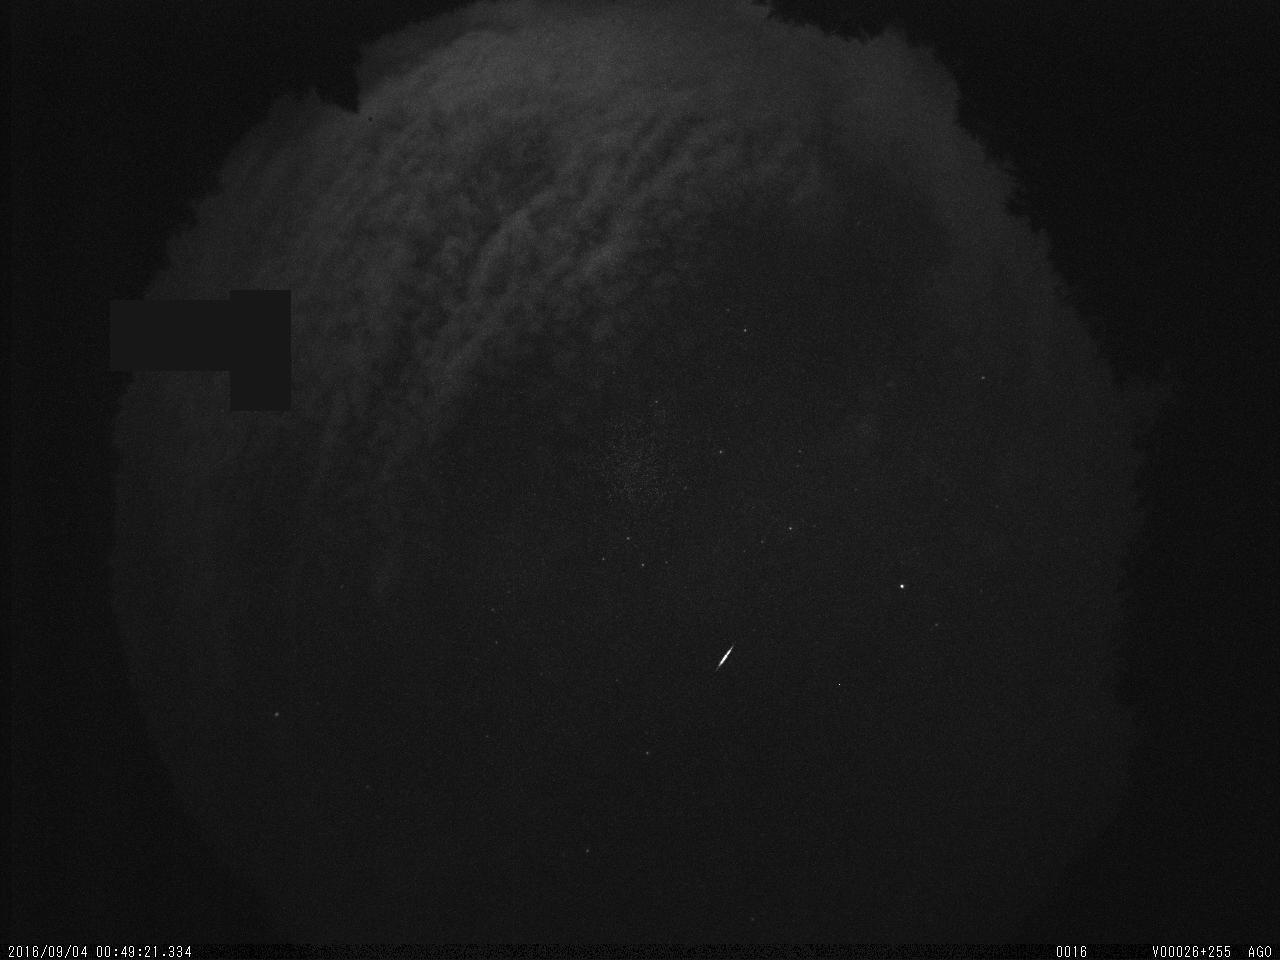meteor: (709, 634, 744, 681)
